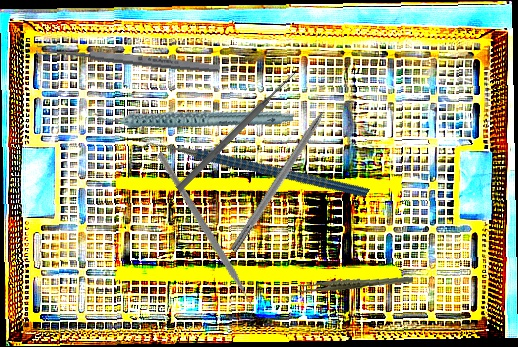Chopper: (132, 73, 370, 271), (108, 151, 300, 324)
Handpiece: (93, 67, 295, 165)
Hook Surgical: (229, 90, 341, 255)
Pusher: (174, 69, 299, 194)
Surgical Spoon: (35, 43, 221, 75)
Tissue Forceps: (296, 264, 414, 305)
